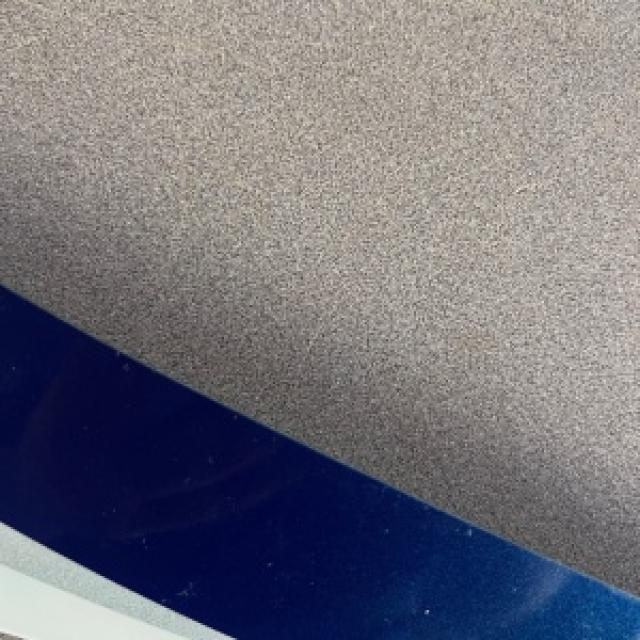healthy: (0, 0, 638, 593), (0, 286, 638, 638)
